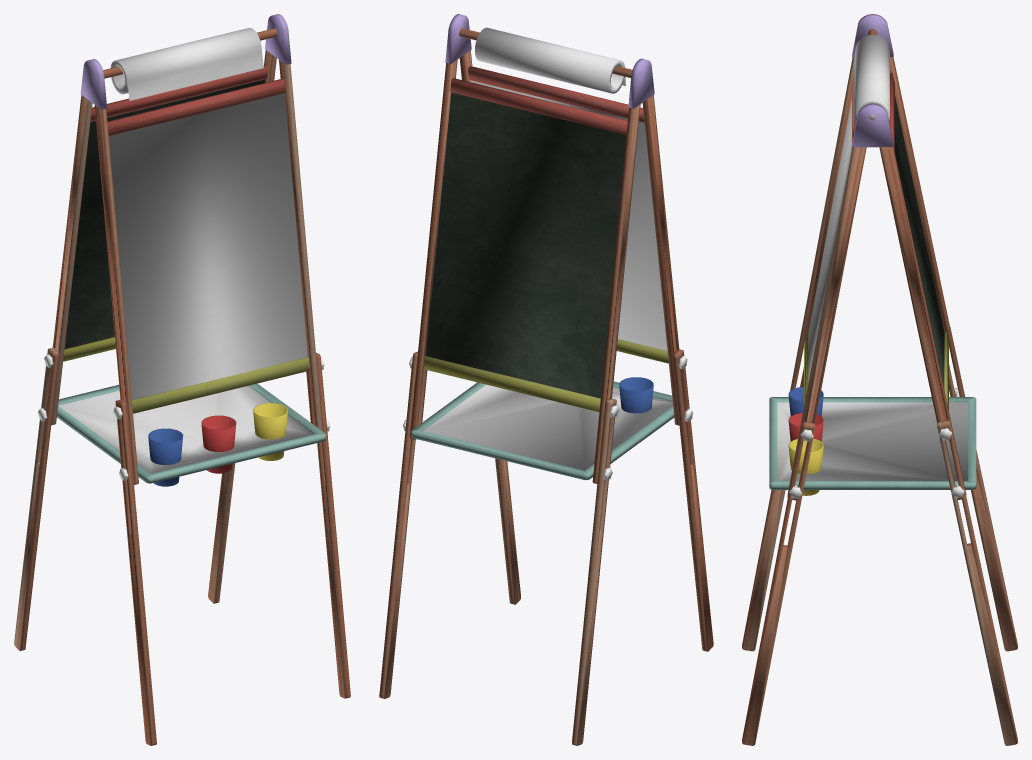
File: Easel.fbx
3 renders of one model, left to right at view 1: azimuth 30°, elevation 25°; view 2: azimuth 150°, elevation 25°; view 3: azimuth 270°, elevation 25°, orthographic.
Visible parts, largest first — view 1: SM_Easel__1_; view 2: SM_Easel__1_; view 3: SM_Easel__1_.
Boxes of the visible parts, x1,y1,x2,y2 form: SM_Easel__1_: [14, 14, 350, 745]; SM_Easel__1_: [379, 14, 713, 745]; SM_Easel__1_: [742, 14, 1017, 745].
Bounding box in the file's own units: 37.05 × 110 × 43.24.
